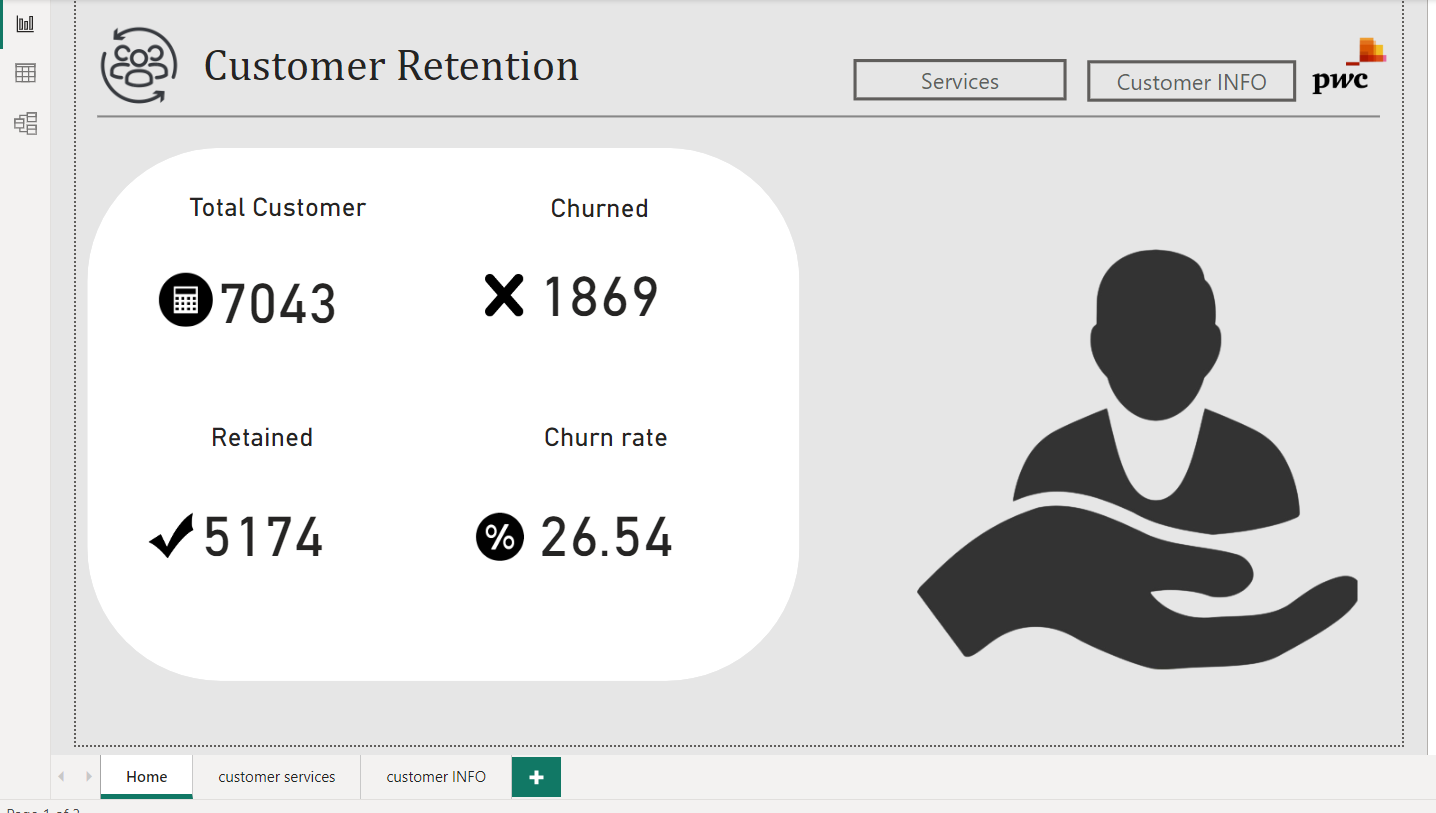

This screenshot's page, from the dashboard's own definition file:
{"tool":"powerbi","page":{"name":"Home","canvas":[1280,720],"ordinal":0},"visuals":[{"type":"shape","box":[11,144.1,687.5,514.6],"z":3000},{"type":"card","title":"Churned","fields":{"Values":["#Measures.Churned"]},"box":[371.9,186.6,267.6,157.8],"z":4000},{"type":"card","title":"Churn rate","fields":{"Values":["#Measures.churn rate"]},"box":[371.9,407.5,279.9,179.8],"z":5000},{"type":"textbox","box":[52.1,32.9,474.8,70],"z":6000},{"type":"image","box":[0,0,122.1,127.6],"z":7000},{"type":"shape","box":[20.6,98.8,1237.7,28.8],"z":8000},{"type":"image","box":[1177.4,32.9,102.9,64.5],"z":9000},{"type":"image","box":[806.9,167.4,435,553],"z":10000},{"type":"card","title":"Retained","fields":{"Values":["#Measures.Not churned"]},"box":[52.1,407.5,255.2,179.8],"z":11000},{"type":"card","title":"Total Customer","fields":{"Values":["CountNonNull(01 Churn-Dataset.customerID)"]},"box":[61.7,185.2,266.2,174.3],"z":12000},{"type":"actionButton","box":[750.6,57.6,205.8,39.8],"z":13000},{"type":"actionButton","box":[975.6,59,201.7,39.8],"z":14000},{"type":"image","box":[74.1,259.3,64.5,61.7],"z":15000},{"type":"image","box":[371.9,491.3,75.5,56.3],"z":16000},{"type":"image","box":[371.9,260.7,82.3,50.8],"z":17000},{"type":"image","box":[61.7,491.3,60.4,53.5],"z":18000}]}

Visuals, with their boxes on the page's 1280x720 design canvas (x1, y1, x2, y2). These are canvas units, not pixel positions in the 1436x813 screenshot, which may show the page scaled, cropped or inside an application window:
shape: (left=11, top=144, right=698, bottom=659)
"Churned" card: (left=372, top=187, right=640, bottom=344)
"Churn rate" card: (left=372, top=408, right=652, bottom=587)
textbox: (left=52, top=33, right=527, bottom=103)
image: (left=0, top=0, right=122, bottom=128)
shape: (left=21, top=99, right=1258, bottom=128)
image: (left=1177, top=33, right=1280, bottom=97)
image: (left=807, top=167, right=1242, bottom=720)
"Retained" card: (left=52, top=408, right=307, bottom=587)
"Total Customer" card: (left=62, top=185, right=328, bottom=360)
actionButton: (left=751, top=58, right=956, bottom=97)
actionButton: (left=976, top=59, right=1177, bottom=99)
image: (left=74, top=259, right=139, bottom=321)
image: (left=372, top=491, right=447, bottom=548)
image: (left=372, top=261, right=454, bottom=312)
image: (left=62, top=491, right=122, bottom=545)
